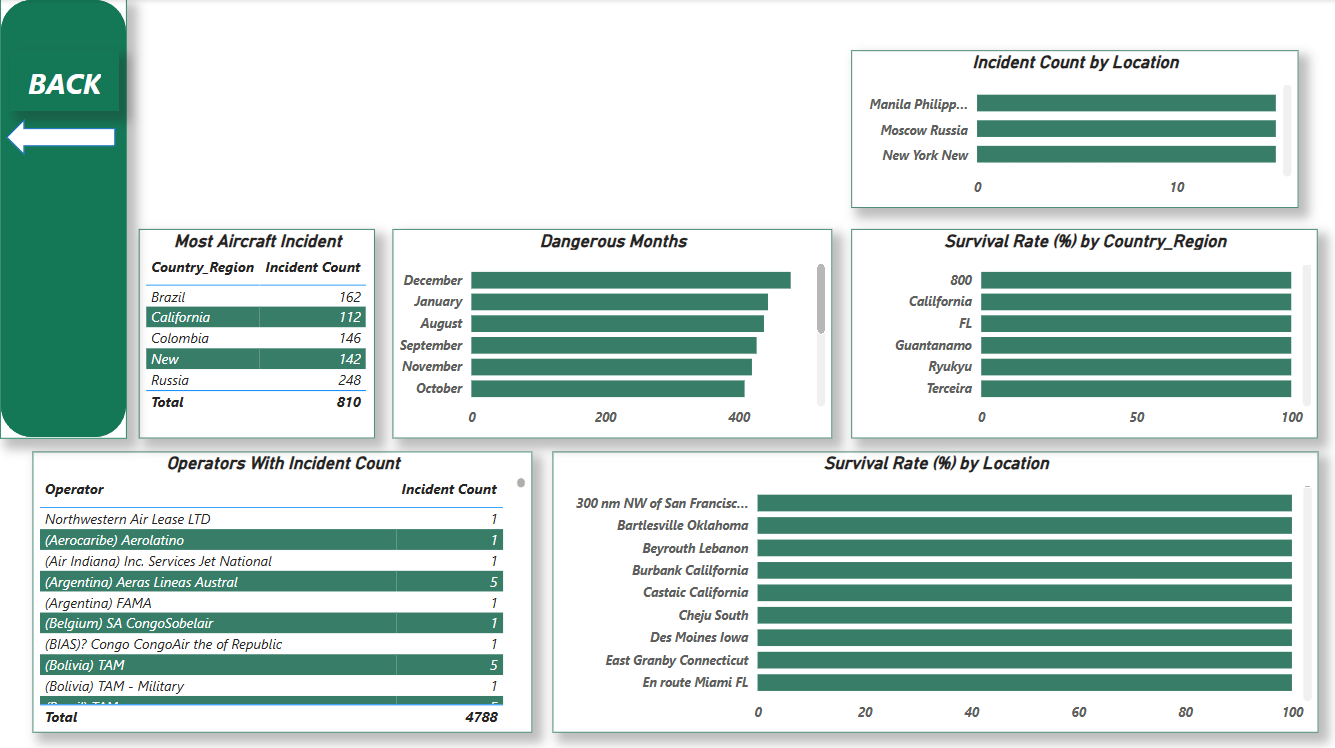

The dashboard page shown, as its layout file describes it:
{"tool":"powerbi","page":{"name":"Dashboard 2","canvas":[1280,720],"ordinal":1},"visuals":[{"type":"barChart","fields":{"Category":["Aircraft_Incidents.Location"],"Y":["Aircraft_Incidents.Survival Rate (%)"]},"box":[529.5,434.3,734.4,269.8],"z":0},{"type":"barChart","title":"Dangerous Months","fields":{"Category":["Aircraft_Incidents.Month"],"Y":["Aircraft_Incidents.Incident Count"]},"box":[376.6,220.7,421.3,200.5],"z":1000},{"type":"barChart","fields":{"Category":["Aircraft_Incidents.Country_Region"],"Y":["Aircraft_Incidents.Survival Rate (%)"]},"box":[816.6,220.7,447.3,200.5],"z":2000},{"type":"tableEx","title":"Operators With Incident Count","fields":{"Values":["Aircraft_Incidents.Operator","Aircraft_Incidents.Incident Count"]},"box":[31.7,434.3,479,269.8],"z":3000},{"type":"barChart","fields":{"Category":["Aircraft_Incidents.Location"],"Y":["Aircraft_Incidents.Incident Count"]},"box":[816.6,49.1,428.5,151.5],"z":4000},{"type":"tableEx","title":"Most Aircraft Incident","fields":{"Values":["Aircraft_Incidents.Country_Region","Aircraft_Incidents.Incident Count"]},"box":[133.2,220.4,226.5,200.9],"z":5000},{"type":"shape","box":[0,0,122,421.3],"z":6000},{"type":"actionButton","title":"NEXT","box":[9.2,49.2,104.5,58.4],"z":7000},{"type":"shape","box":[6.1,114.8,104.5,34.8],"z":8000}]}

Visuals, with their boxes in screenshot pixels (x1, y1, x2, y2), scaled from the page's 1280x720 canvas onto the 1335x748 screenshot:
barChart - Aircraft_Incidents.Location x Aircraft_Incidents.Survival Rate (%): crop(552, 451, 1318, 731)
"Dangerous Months" barChart: crop(393, 229, 832, 438)
barChart - Aircraft_Incidents.Country_Region x Aircraft_Incidents.Survival Rate (%): crop(852, 229, 1318, 438)
"Operators With Incident Count" tableEx: crop(33, 451, 533, 731)
barChart - Aircraft_Incidents.Location x Aircraft_Incidents.Incident Count: crop(852, 51, 1299, 208)
"Most Aircraft Incident" tableEx: crop(139, 229, 375, 438)
shape: crop(0, 0, 127, 438)
"NEXT" actionButton: crop(10, 51, 119, 112)
shape: crop(6, 119, 115, 155)
